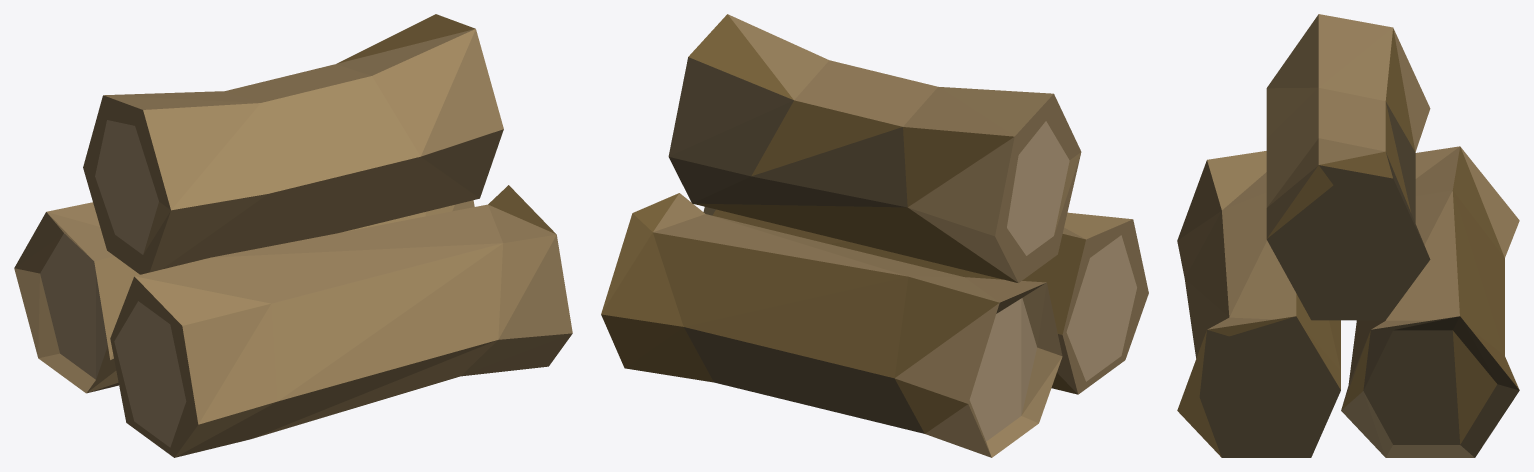
Rendered from logs.fbx.
3 renders of one model, left to right at view 1: azimuth 30°, elevation 25°; view 2: azimuth 150°, elevation 25°; view 3: azimuth 270°, elevation 25°, orthographic. The views are drawn at different scales.
Visible parts, largest first — view 1: Item Oak logs 2024-03-30_00-48-52; view 2: Item Oak logs 2024-03-30_00-48-52; view 3: Item Oak logs 2024-03-30_00-48-52.
Part boxes in pixels (left/top/right/bottom): Item Oak logs 2024-03-30_00-48-52: left=14, top=14, right=572, bottom=457; Item Oak logs 2024-03-30_00-48-52: left=601, top=14, right=1148, bottom=457; Item Oak logs 2024-03-30_00-48-52: left=1177, top=14, right=1519, bottom=457.
Bounding box in the file's own units: 5400 × 4200 × 4600.
